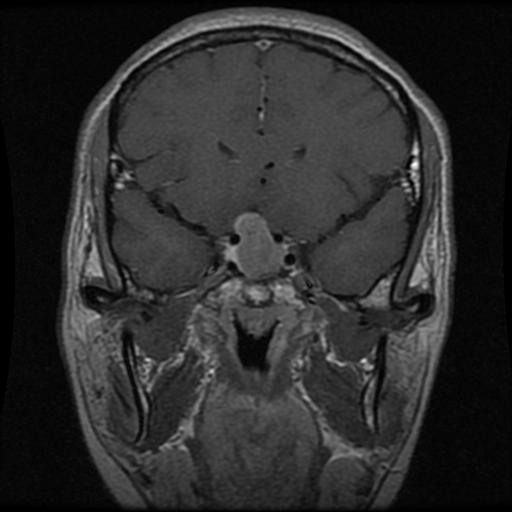Pituirity_tumour: (222, 212, 288, 280)
